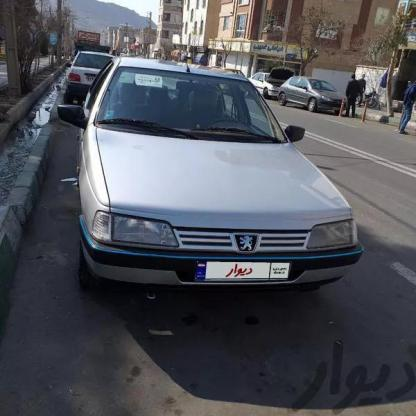Car: (69, 51, 368, 312), (280, 70, 356, 116), (58, 47, 115, 99), (254, 78, 284, 105)
